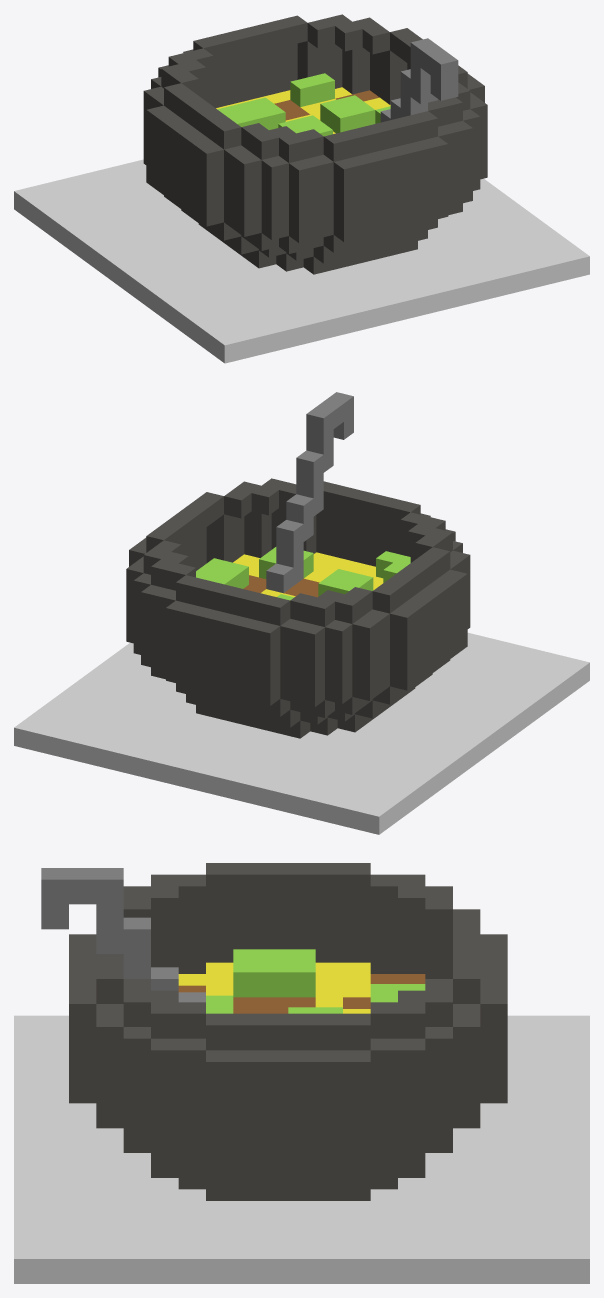
File: SoupPlate.dae
The picture shows the model from 3 angles, top to bottom: view 1: azimuth 30°, elevation 25°; view 2: azimuth 150°, elevation 25°; view 3: azimuth 270°, elevation 25°; orthographic projection. The views are drawn at different scales.
Visible parts, largest first — view 1: SoupPlate; view 2: SoupPlate; view 3: SoupPlate.
Boxes of the visible parts, box(x1,y1,x2,y2) form: SoupPlate: box(14, 14, 589, 363); SoupPlate: box(14, 392, 589, 834); SoupPlate: box(14, 863, 589, 1283).
Size of the model in its own units: 21 by 21 by 13.
Materials: 1 (1 with a texture image).
